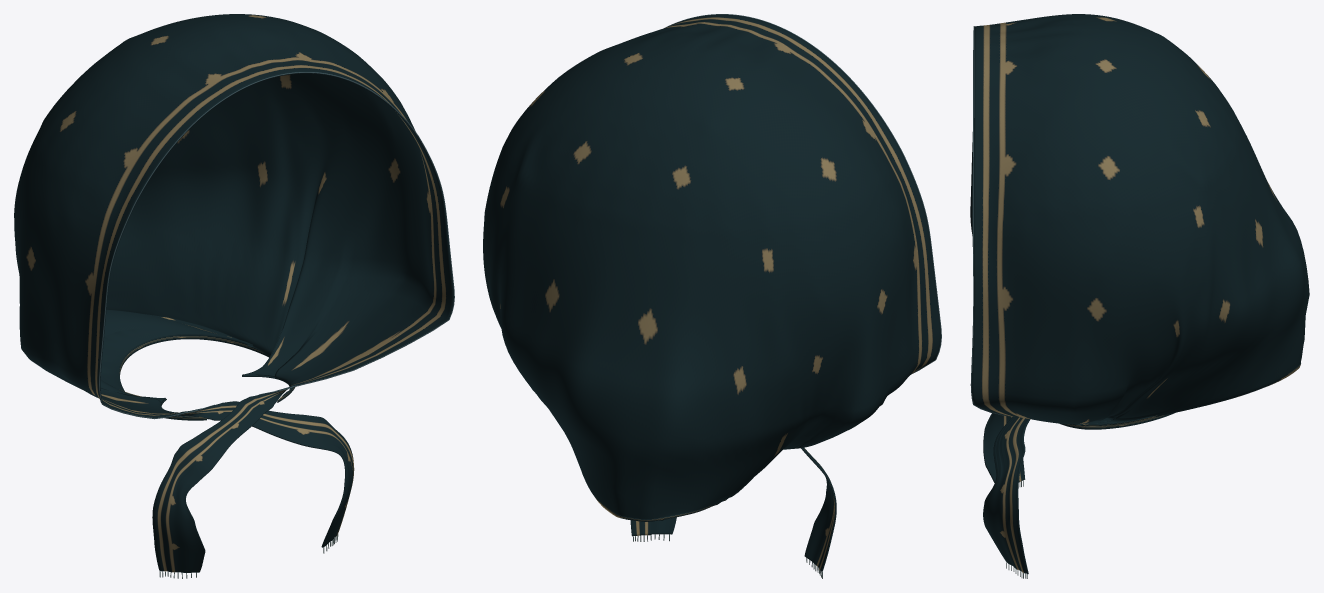
The model's file is Feminine-ponytail-sweatshirt-pashmina249-headgear.glb.
3 renders of one model, left to right at view 1: azimuth 30°, elevation 25°; view 2: azimuth 150°, elevation 25°; view 3: azimuth 270°, elevation 25°, orthographic. The views are drawn at different scales.
Visible parts, largest first — view 1: 226 headgear / Headwear / continuous woven pashmina239, 226 headgear / Headwear / face edge239; view 2: 226 headgear / Headwear / continuous woven pashmina239, 226 headgear / Headwear / face edge239; view 3: 226 headgear / Headwear / continuous woven pashmina239, 226 headgear / Headwear / face edge239.
Boxes of the visible parts, x1,y1,x2,y2 form: 226 headgear / Headwear / continuous woven pashmina239: [14, 14, 453, 572]; 226 headgear / Headwear / face edge239: [99, 72, 454, 419]; 226 headgear / Headwear / continuous woven pashmina239: [483, 14, 940, 572]; 226 headgear / Headwear / face edge239: [664, 14, 941, 374]; 226 headgear / Headwear / continuous woven pashmina239: [970, 14, 1309, 574]; 226 headgear / Headwear / face edge239: [970, 26, 1011, 416].
Size of the model in its own units: 1.02 by 1.37 by 0.8332.
Materials: 3 (1 with a texture image).
